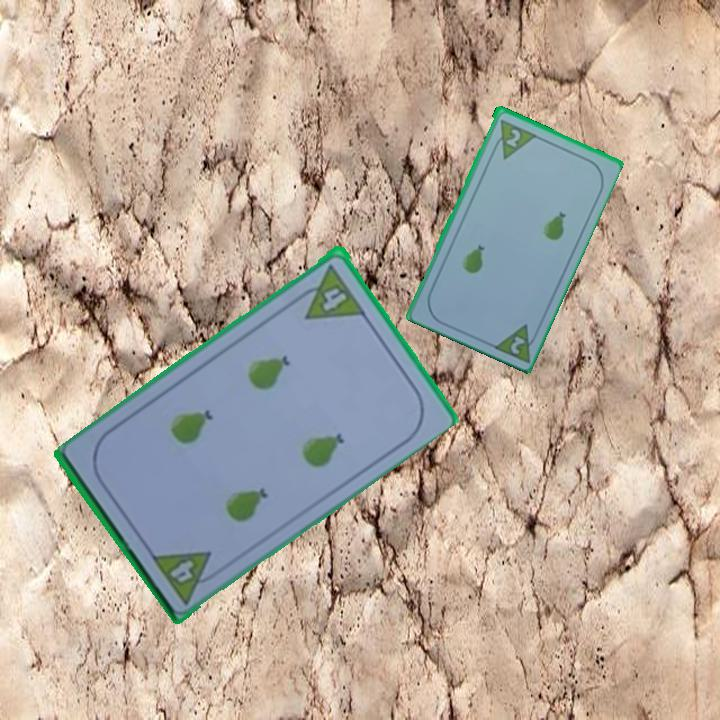2p: (488, 320, 542, 364), (488, 115, 537, 162)
4p: (290, 260, 368, 323), (148, 546, 226, 607)
